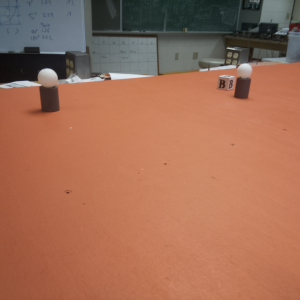blockB: (217, 74, 235, 91)
obstacle: (37, 67, 62, 111), (236, 64, 252, 100)
